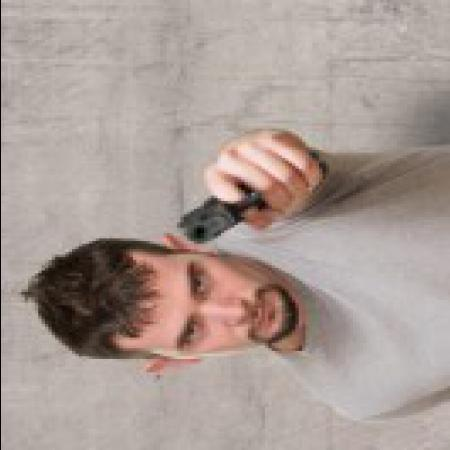Pistol: (169, 185, 257, 252)
